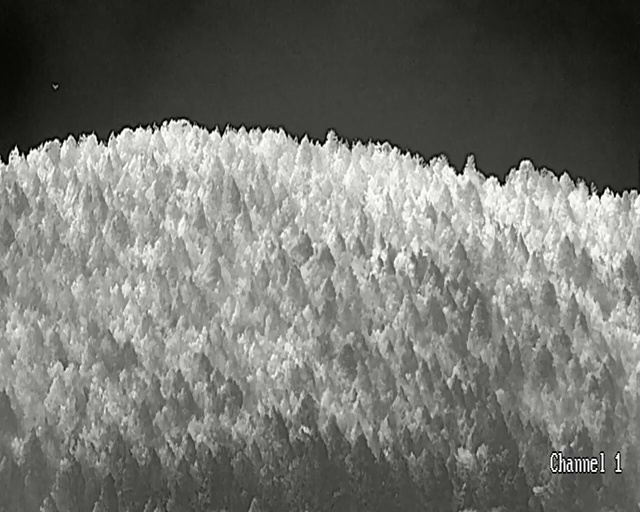uav: (52, 84, 58, 89)
